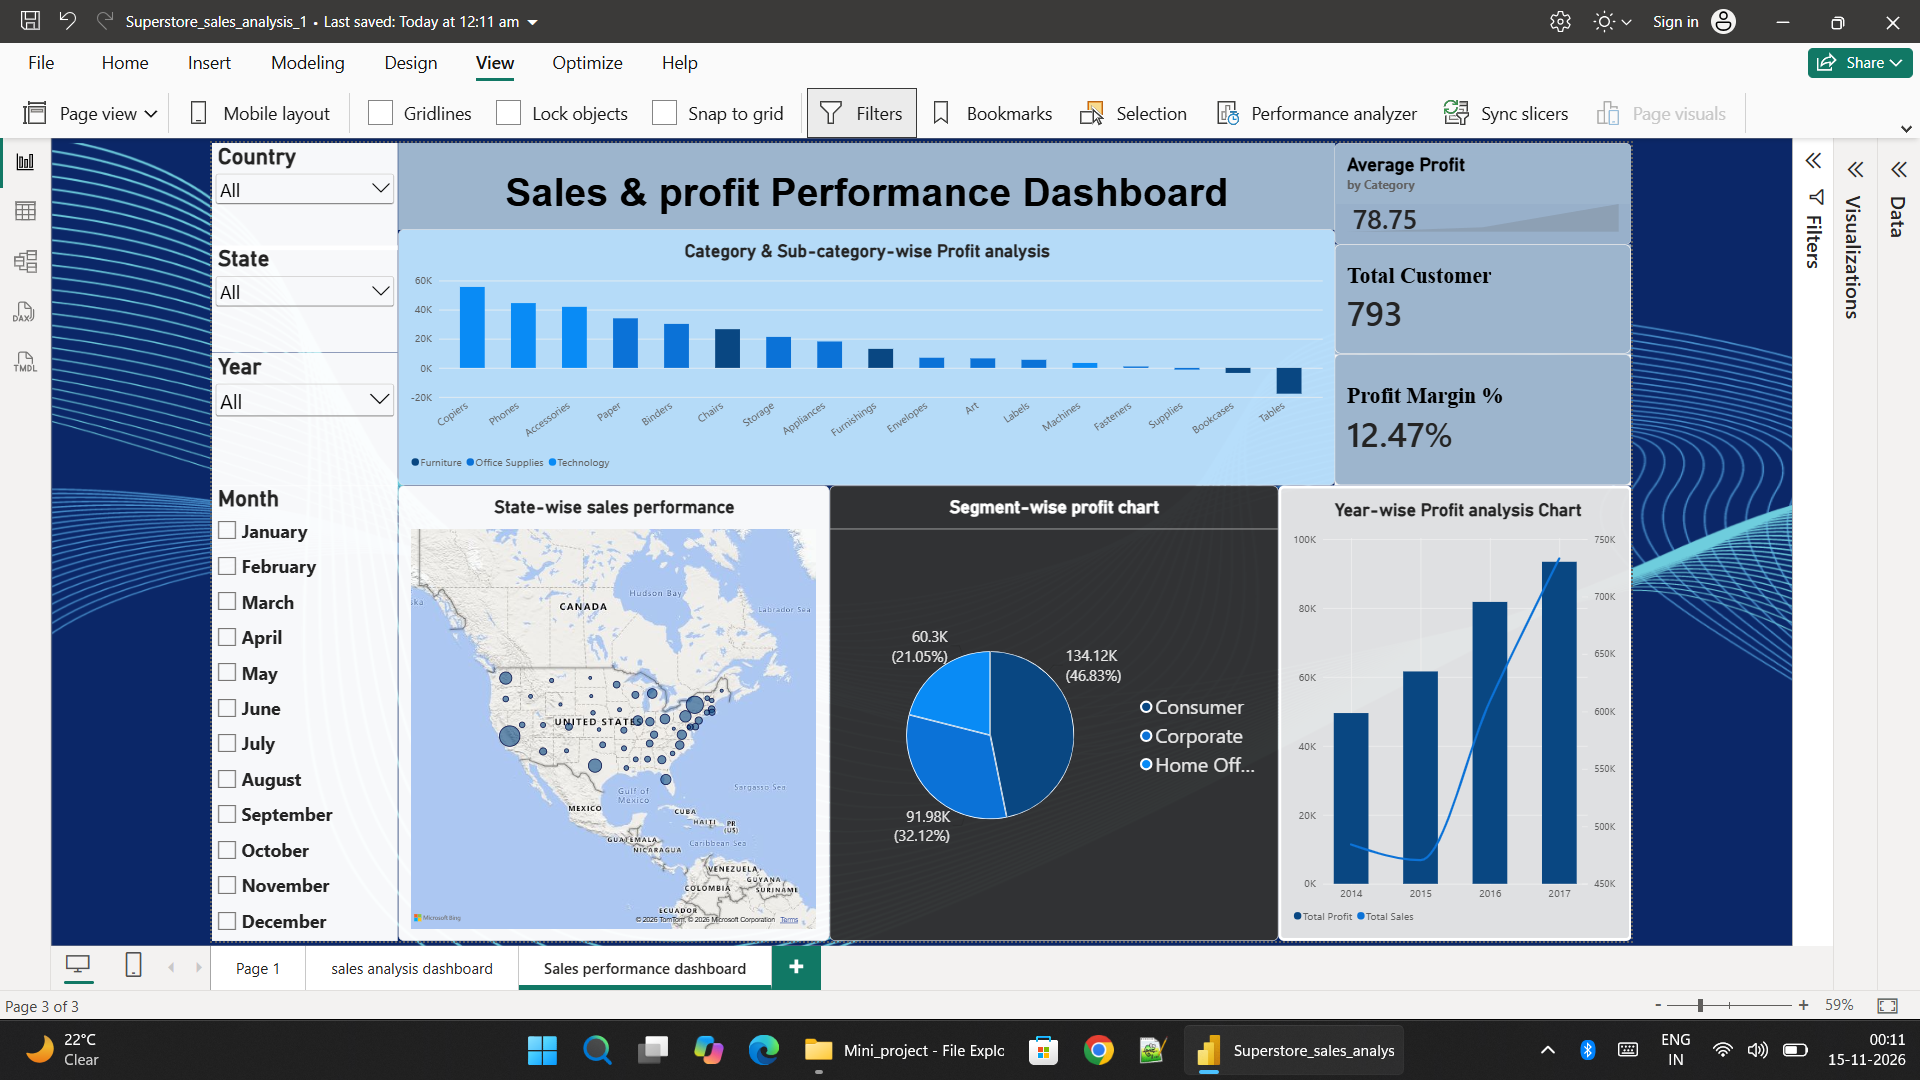

This screenshot's page, from the dashboard's own definition file:
{"tool":"powerbi","page":{"name":"Sales &profit performance dashboard","canvas":[1920,1080],"ordinal":1},"visuals":[{"type":"textbox","box":[251.3,0,1267.5,117.4],"z":0},{"type":"kpi","fields":{"Indicator":["Solution_sales_Data_cleaning.Average Profit"],"TrendLine":["Solution_sales_Data_cleaning.Category"]},"box":[1518.8,0,401.7,137.6],"z":1000},{"type":"cardVisual","fields":{"Data":["Solution_sales_Data_cleaning.Total Customer"]},"box":[1518.8,137.6,401.7,148.6],"z":2000},{"type":"cardVisual","fields":{"Data":["Solution_sales_Data_cleaning.Profit Margin %"]},"box":[1518.8,286.1,401.7,177.9],"z":3000},{"type":"columnChart","title":"Category & Sub-category-wise Profit analysis","fields":{"Category":["Solution_sales_Data_cleaning.Sub-Category"],"Series":["Solution_sales_Data_cleaning.Category"],"Y":["Solution_sales_Data_cleaning.Total Profit"]},"box":[251.3,117.4,1267.5,346.7],"z":4000},{"type":"lineClusteredColumnComboChart","title":"Year-wise Profit analysis Chart","fields":{"Category":["Solution_sales_Data_cleaning.Order Date.Variation.Date Hierarchy.Year"],"Y":["Solution_sales_Data_cleaning.Total Profit"],"Y2":["Solution_sales_Data_cleaning.Total Sales"]},"box":[1441.7,464.1,478.7,616.3],"z":5000},{"type":"slicer","fields":{"Values":["Solution_sales_Data_cleaning.Country"]},"box":[0,0,251.3,144.9],"z":6000},{"type":"slicer","fields":{"Values":["Statewise_profit_analysis.State"]},"box":[0,139.4,251.3,144.9],"z":7000},{"type":"pieChart","title":"Segment-wise profit chart","fields":{"Category":["Solution_sales_Data_cleaning.Segment"],"Y":["Solution_sales_Data_cleaning.Total Profit"]},"box":[834.6,464.1,607.1,616.3],"z":8000},{"type":"map","title":"State-wise sales performance","fields":{"Category":["Solution_sales_Data_cleaning.State"],"Size":["Solution_sales_Data_cleaning.Total Sales"]},"box":[251.3,464.1,583.3,616.3],"z":9000},{"type":"slicer","fields":{"Values":["Solution_sales_Data_cleaning.Order Date.Variation.Date Hierarchy.Year"]},"box":[0,284,251,180],"z":10000},{"type":"slicer","fields":{"Values":["Solution_sales_Data_cleaning.Order Date.Variation.Date Hierarchy.Month"]},"box":[0,464,251,616],"z":11000}]}

Visuals, with their boxes on the page's 1920x1080 design canvas (x1, y1, x2, y2). These are canvas units, not pixel positions in the 1920x1080 screenshot, which may show the page scaled, cropped or inside an application window:
textbox: {"x1": 251, "y1": 0, "x2": 1519, "y2": 117}
kpi - Solution_sales_Data_cleaning.Average Profit x Solution_sales_Data_cleaning.Category: {"x1": 1519, "y1": 0, "x2": 1920, "y2": 138}
cardVisual - Solution_sales_Data_cleaning.Total Customer: {"x1": 1519, "y1": 138, "x2": 1920, "y2": 286}
cardVisual - Solution_sales_Data_cleaning.Profit Margin %: {"x1": 1519, "y1": 286, "x2": 1920, "y2": 464}
"Category & Sub-category-wise Profit analysis" columnChart: {"x1": 251, "y1": 117, "x2": 1519, "y2": 464}
"Year-wise Profit analysis Chart" lineClusteredColumnComboChart: {"x1": 1442, "y1": 464, "x2": 1920, "y2": 1080}
slicer - Solution_sales_Data_cleaning.Country: {"x1": 0, "y1": 0, "x2": 251, "y2": 145}
slicer - Statewise_profit_analysis.State: {"x1": 0, "y1": 139, "x2": 251, "y2": 284}
"Segment-wise profit chart" pieChart: {"x1": 835, "y1": 464, "x2": 1442, "y2": 1080}
"State-wise sales performance" map: {"x1": 251, "y1": 464, "x2": 835, "y2": 1080}
slicer - Solution_sales_Data_cleaning.Order Date.Variation.Date Hierarchy.Year: {"x1": 0, "y1": 284, "x2": 251, "y2": 464}
slicer - Solution_sales_Data_cleaning.Order Date.Variation.Date Hierarchy.Month: {"x1": 0, "y1": 464, "x2": 251, "y2": 1080}
